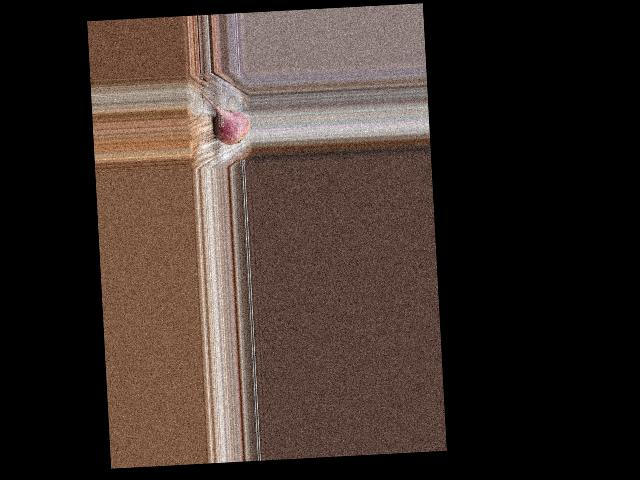beet: (201, 90, 250, 145)
